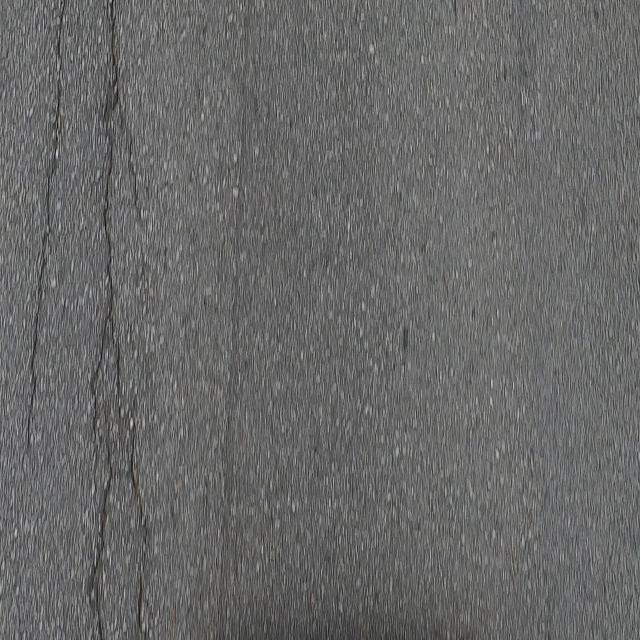Retak-Memanjang: (81, 3, 124, 640), (23, 0, 70, 449), (107, 320, 160, 640)
